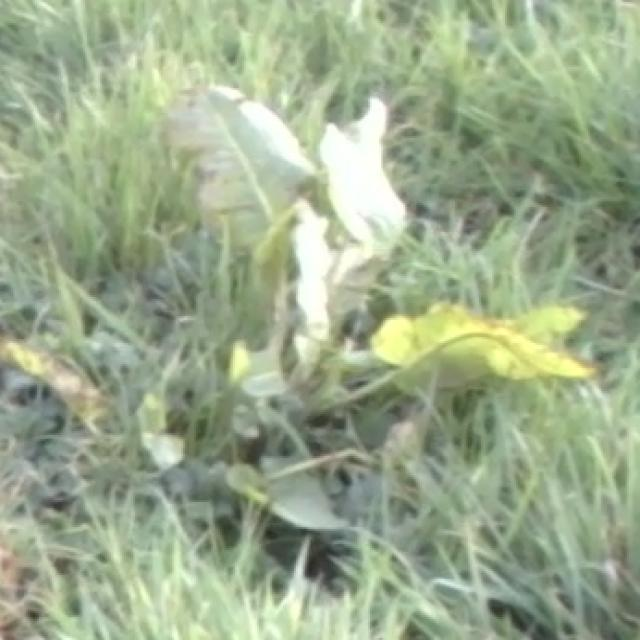organic waste: (128, 69, 600, 488)
